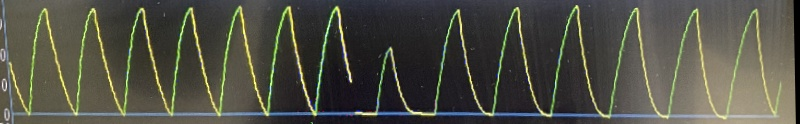normal_volume: (3, 0, 788, 123)
